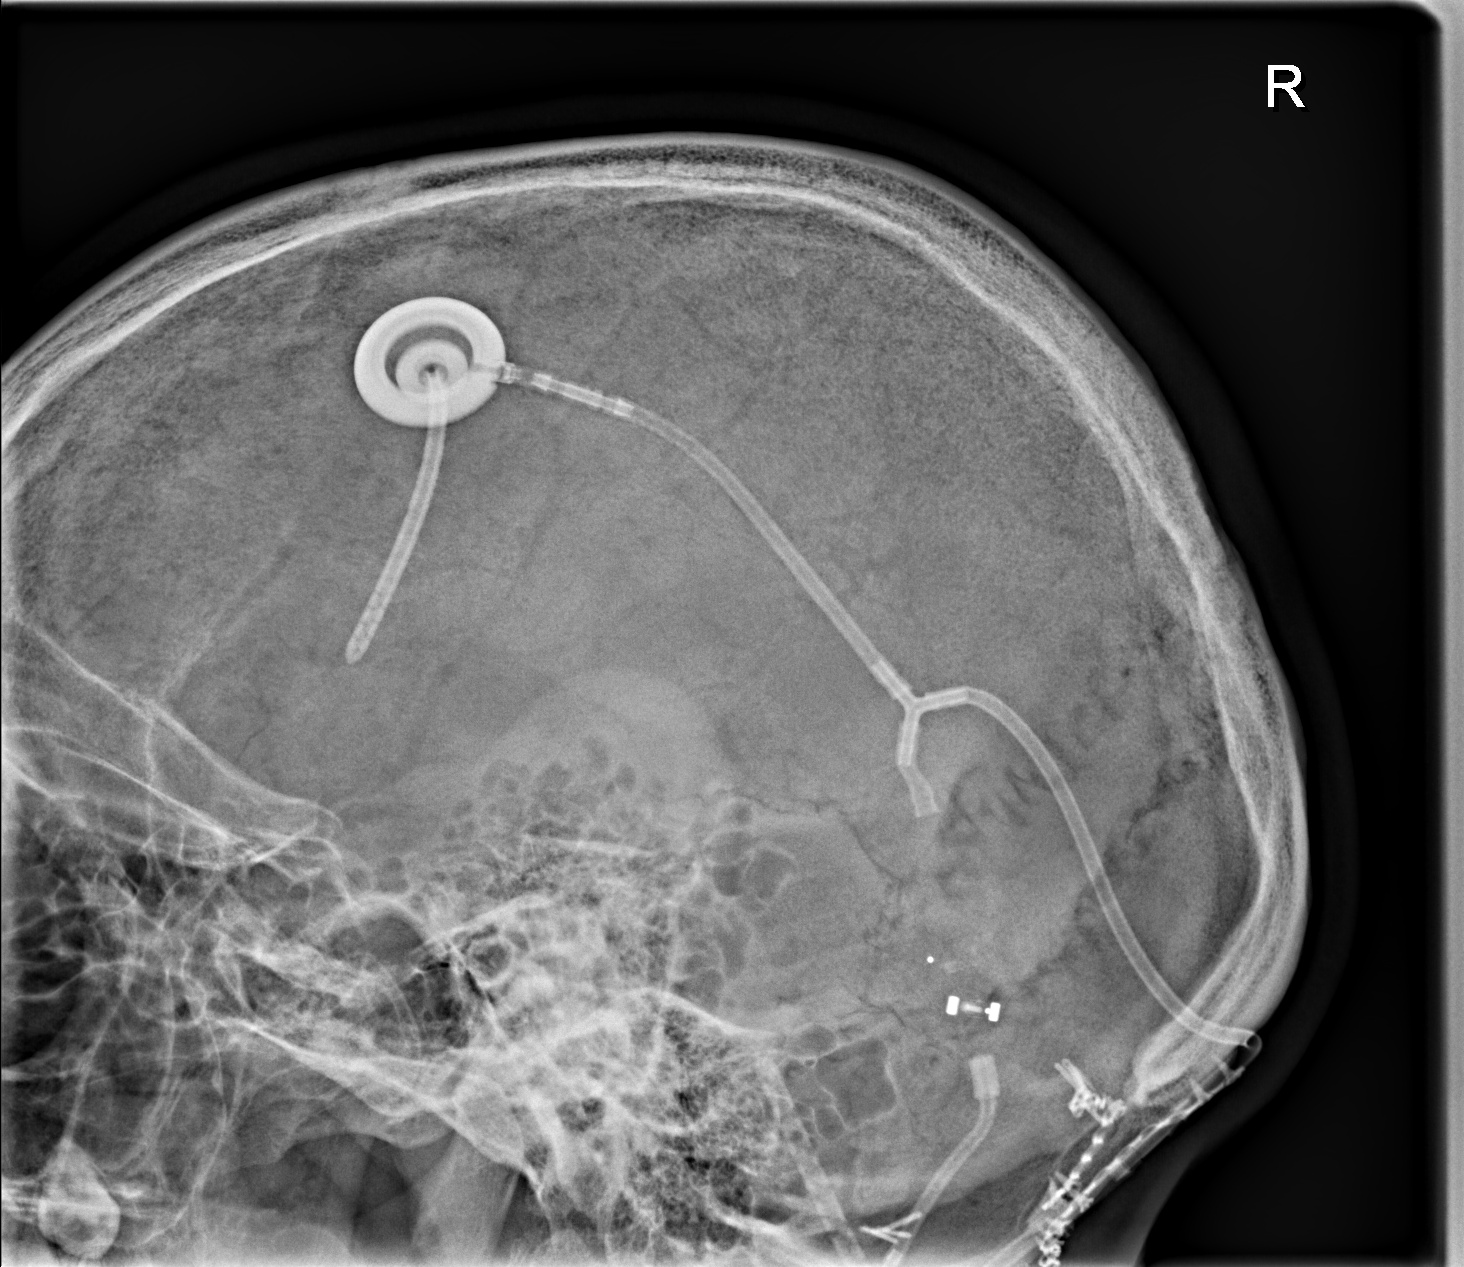Codman Certas: (906, 935, 1021, 1050)
